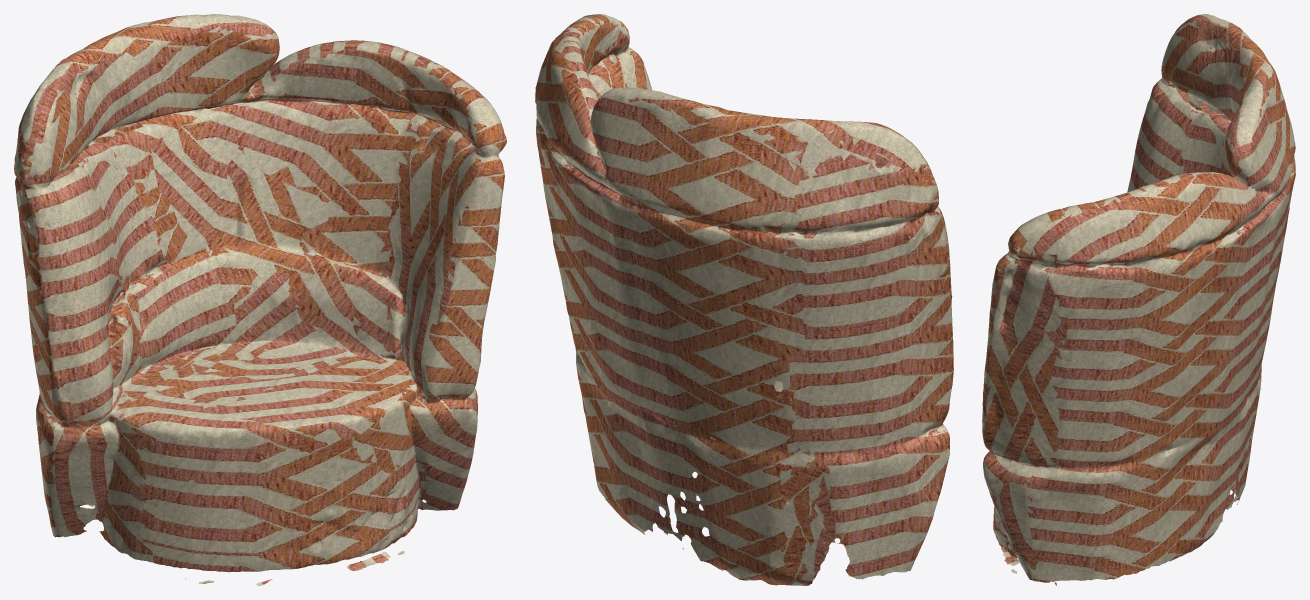
Rendered from Oba-orange.glb.
3 renders of one model, left to right at view 1: azimuth 30°, elevation 25°; view 2: azimuth 150°, elevation 25°; view 3: azimuth 270°, elevation 25°, orthographic. The views are drawn at different scales.
Visible parts, largest first — view 1: unnamed_n3d4; view 2: unnamed_n3d4; view 3: unnamed_n3d4.
Part boxes in pixels (<box>): unnamed_n3d4: <box>14,14,506,585</box>; unnamed_n3d4: <box>535,14,953,585</box>; unnamed_n3d4: <box>982,14,1295,585</box>.
Bounding box in the file's own units: 1.53 × 1.65 × 1.05.
Materials: 1 (1 with a texture image).
